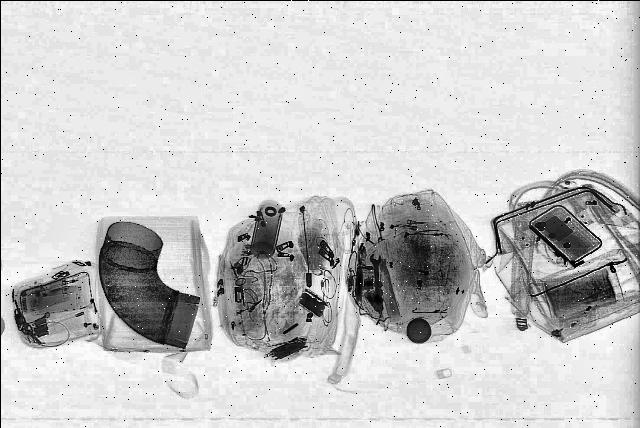Wrench: (372, 253, 381, 307)
